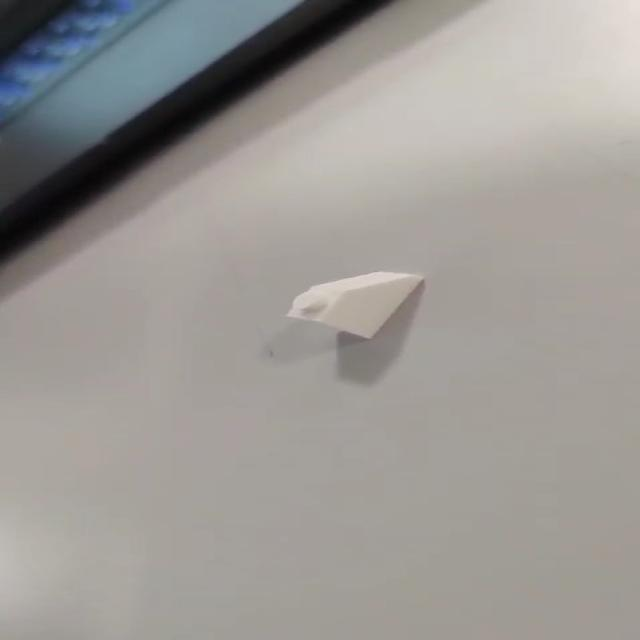P1x2x1: (281, 268, 424, 340)
